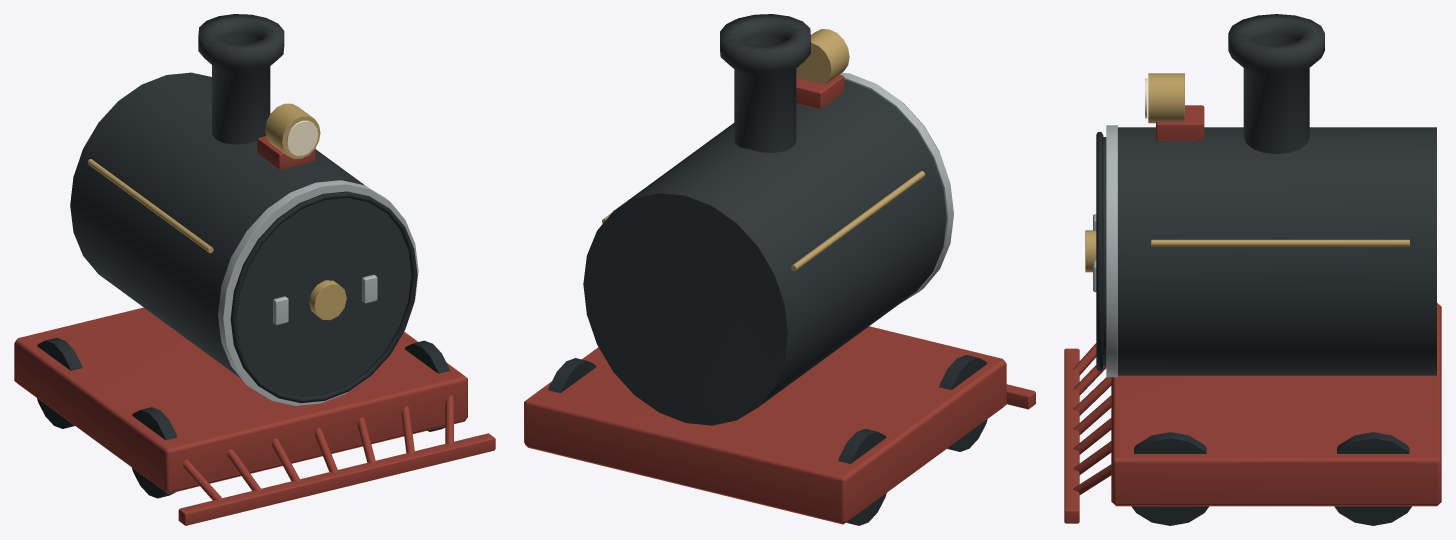
Rendered from S091_train_engine_front_rebuilt.glb.
3 renders of one model, left to right at view 1: azimuth 30°, elevation 25°; view 2: azimuth 150°, elevation 25°; view 3: azimuth 270°, elevation 25°, orthographic. The views are drawn at different scales.
Visible parts, largest first — view 1: Locomotive_charcoal_enamel, red, dark, steel, brass, cream; view 2: Locomotive_charcoal_enamel, red, dark, brass, steel; view 3: Locomotive_charcoal_enamel, red, dark, brass, steel.
Boxes of the visible parts, x1=… form: Locomotive_charcoal_enamel: x1=70, y1=14, x2=411, y2=396; red: x1=14, y1=136, x2=495, y2=525; dark: x1=37, y1=191, x2=449, y2=498; steel: x1=218, y1=180, x2=418, y2=405; brass: x1=87, y1=103, x2=346, y2=320; cream: x1=286, y1=120, x2=318, y2=155; Locomotive_charcoal_enamel: x1=583, y1=14, x2=946, y2=425; red: x1=524, y1=74, x2=1035, y2=524; dark: x1=548, y1=103, x2=987, y2=525; brass: x1=602, y1=29, x2=924, y2=271; steel: x1=840, y1=72, x2=953, y2=302; Locomotive_charcoal_enamel: x1=1103, y1=14, x2=1436, y2=375; red: x1=1064, y1=105, x2=1441, y2=523; dark: x1=1096, y1=132, x2=1411, y2=525; brass: x1=1085, y1=73, x2=1409, y2=272; steel: x1=1093, y1=125, x2=1117, y2=377.
Size of the model in its own units: 2.12 by 2.55 by 2.09.
